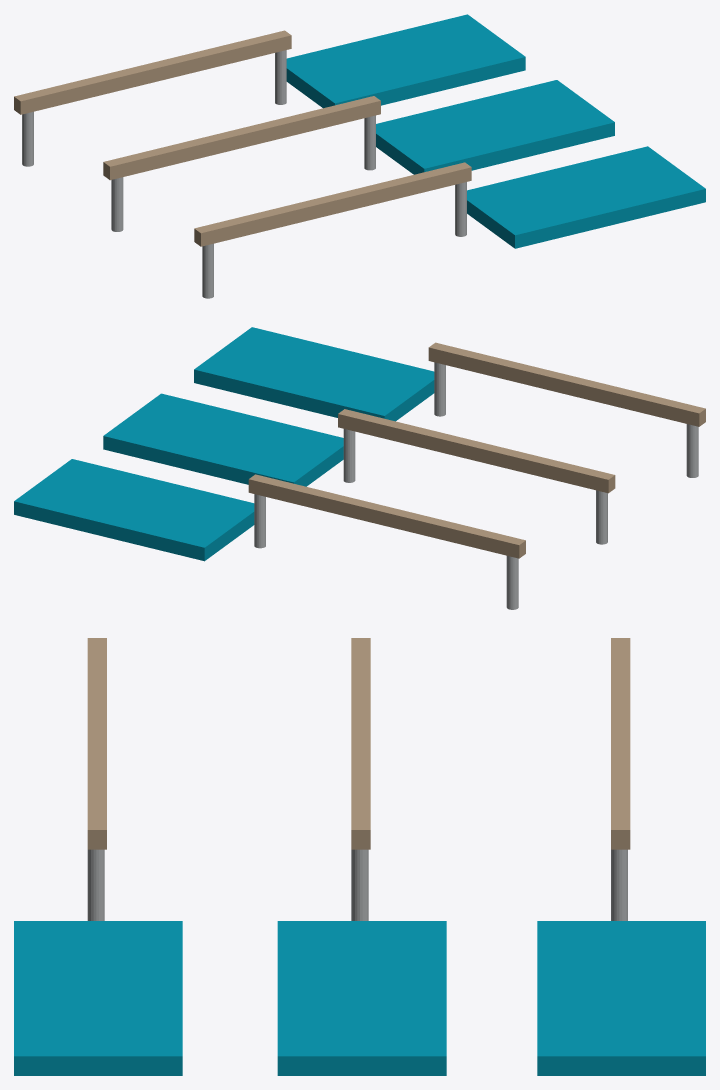
File: beams.glb
3 views of the same model, one above another, from view 1: azimuth 30°, elevation 25°; view 2: azimuth 150°, elevation 25°; view 3: azimuth 270°, elevation 25° (orthographic). The views are drawn at different scales.
Visible parts, largest first — view 1: Mesh_Mesh_head_geo.001_lambert2SG.001; view 2: Mesh_Mesh_head_geo.001_lambert2SG.001; view 3: Mesh_Mesh_head_geo.001_lambert2SG.001.
Boxes of the visible parts, bbox=[...] form: Mesh_Mesh_head_geo.001_lambert2SG.001: bbox=[14, 14, 705, 298]; Mesh_Mesh_head_geo.001_lambert2SG.001: bbox=[14, 327, 705, 609]; Mesh_Mesh_head_geo.001_lambert2SG.001: bbox=[14, 638, 705, 1075].
Bounding box in the file's own units: 186 × 25 × 160.
